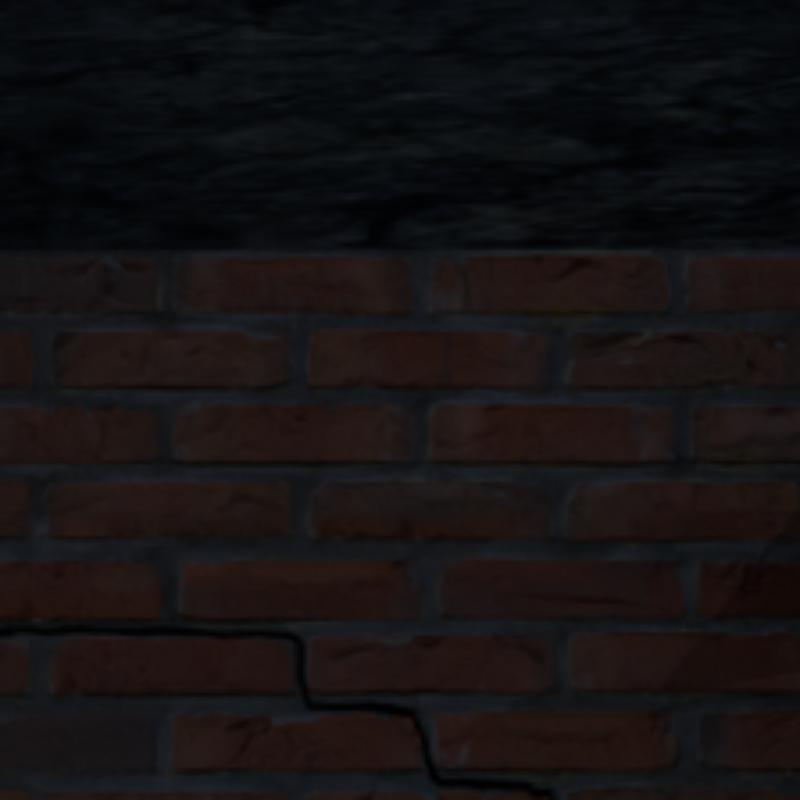crack: (300, 679, 554, 796), (0, 629, 300, 646)
